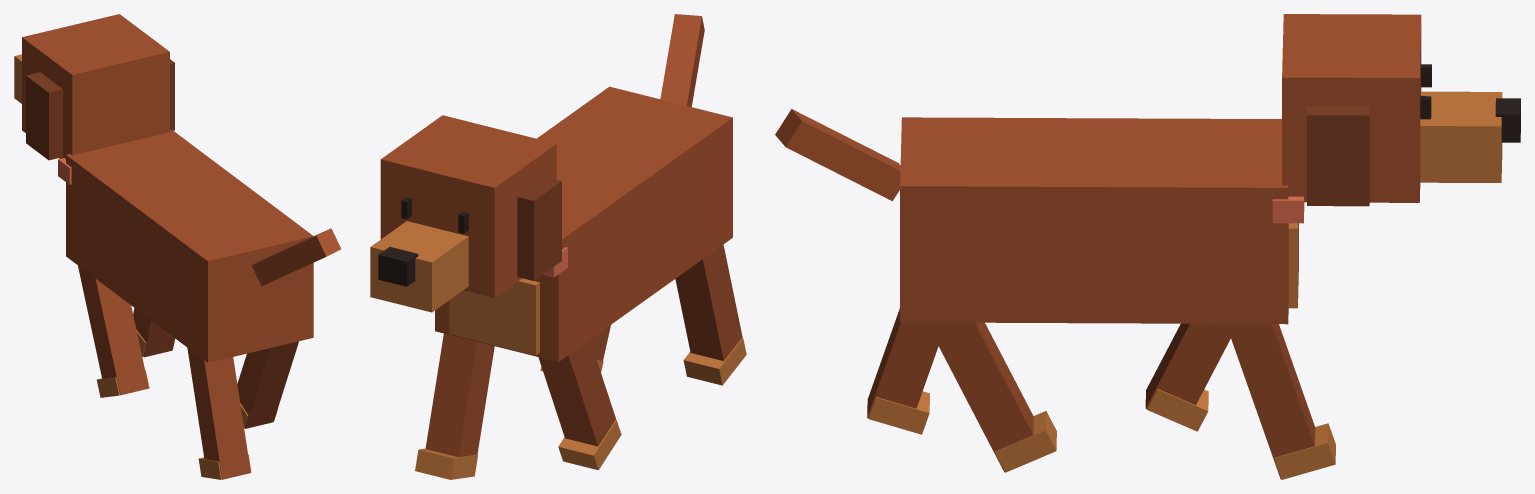
File: pet_obriens.glb
3 views of the same model, side by side, from view 1: azimuth 30°, elevation 25°; view 2: azimuth 150°, elevation 25°; view 3: azimuth 270°, elevation 25° (orthographic). The views are drawn at different scales.
Parts seen in each view (by area): view 1: Box1, Box3, Box18, Box12, Box14, Box8, Box10, Box16, Box19, Box13, Box6; view 2: Box1, Box3, Box16, Box6, Box18, Box2, Box12, Box8, Box10, Box19, Box17, Box13 (+2 smaller); view 3: Box1, Box3, Box6, Box14, Box16, Box9, Box10, Box12, Box18, Box15, Box17, Box19 (+4 smaller).
Boxes of the visible parts, x1=… form: Box1: x1=66, y1=129, x2=313, y2=362; Box3: x1=22, y1=14, x2=169, y2=158; Box18: x1=187, y1=348, x2=250, y2=479; Box12: x1=78, y1=265, x2=148, y2=395; Box14: x1=237, y1=341, x2=298, y2=428; Box8: x1=26, y1=72, x2=62, y2=160; Box10: x1=251, y1=228, x2=340, y2=285; Box16: x1=133, y1=308, x2=174, y2=357; Box19: x1=198, y1=454, x2=251, y2=479; Box13: x1=96, y1=370, x2=149, y2=397; Box6: x1=14, y1=54, x2=21, y2=103; Box1: x1=435, y1=86, x2=732, y2=361; Box3: x1=380, y1=115, x2=556, y2=297; Box16: x1=425, y1=333, x2=494, y2=457; Box6: x1=370, y1=221, x2=468, y2=312; Box18: x1=675, y1=244, x2=742, y2=360; Box2: x1=449, y1=278, x2=539, y2=355; Box12: x1=538, y1=340, x2=616, y2=446; Box8: x1=517, y1=177, x2=561, y2=280; Box10: x1=660, y1=14, x2=704, y2=106; Box19: x1=683, y1=338, x2=746, y2=385; Box17: x1=415, y1=448, x2=477, y2=479; Box13: x1=558, y1=420, x2=621, y2=470; Box1: x1=900, y1=117, x2=1288, y2=324; Box3: x1=1282, y1=14, x2=1421, y2=202; Box6: x1=1420, y1=91, x2=1502, y2=182; Box14: x1=926, y1=322, x2=1033, y2=472; Box16: x1=1226, y1=324, x2=1315, y2=479; Box9: x1=1307, y1=106, x2=1369, y2=206; Box10: x1=775, y1=109, x2=900, y2=201; Box12: x1=1145, y1=323, x2=1230, y2=408; Box18: x1=867, y1=308, x2=938, y2=417; Box15: x1=995, y1=411, x2=1056, y2=472; Box17: x1=1274, y1=423, x2=1335, y2=479; Box19: x1=868, y1=391, x2=929, y2=434.
Size of the model in its own units: 0.3111 by 0.7131 by 1.19.
